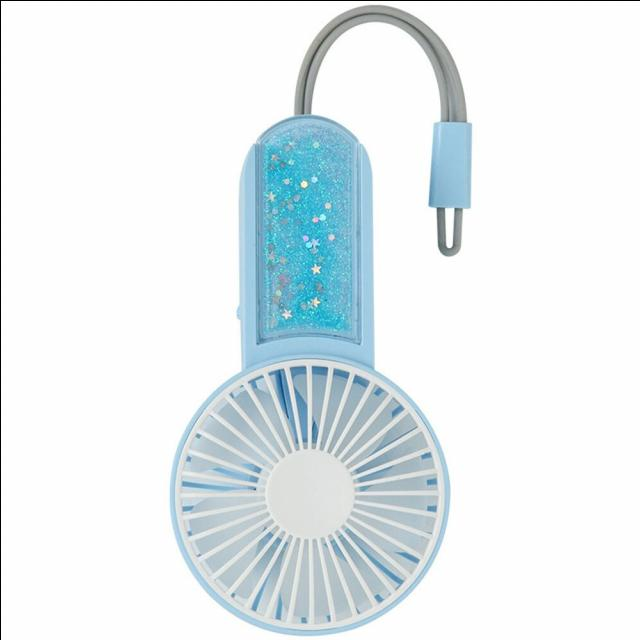fan: (157, 5, 480, 637)
